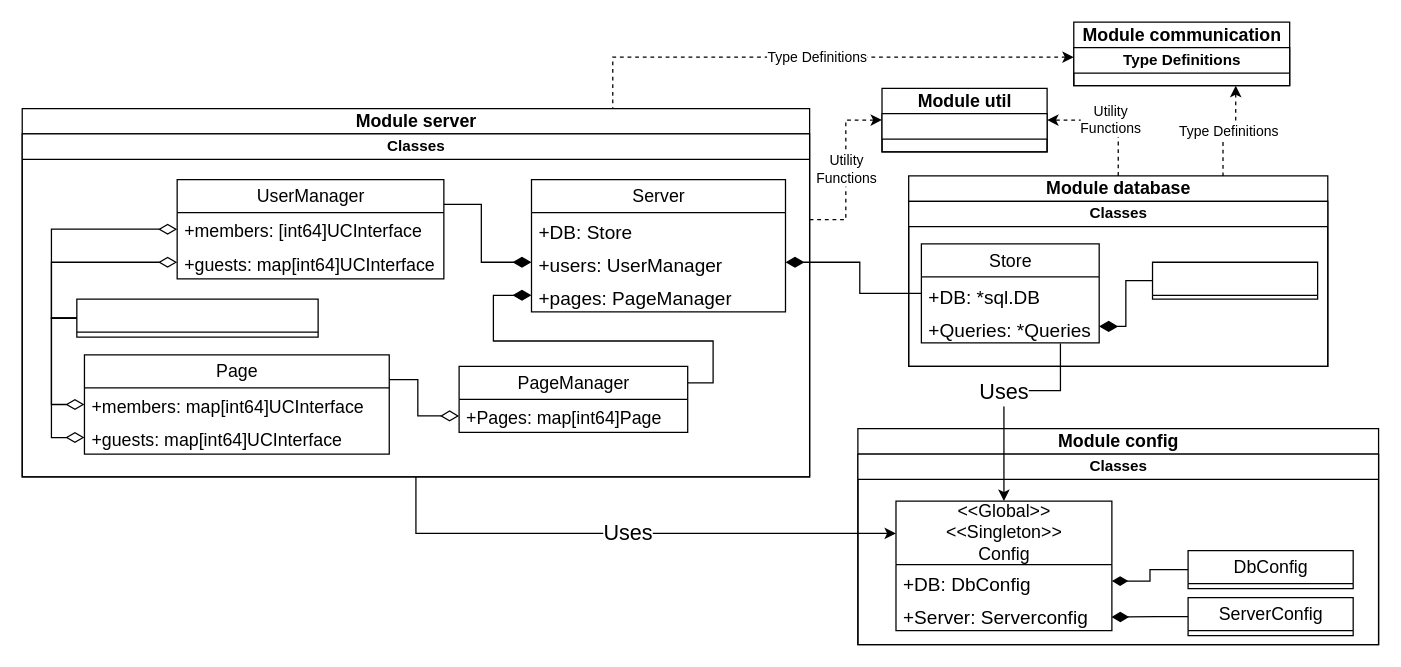
The diagram is 1401 pixels wide and 667 high, and some of its shapes have lost their labels. The centre of each missing label's shape, as x and y in pixels:
"Pure Functions" goes at (x=964, y=132).
"Queries" goes at (x=1234, y=280).
"UCInterface" goes at (x=197, y=317).
